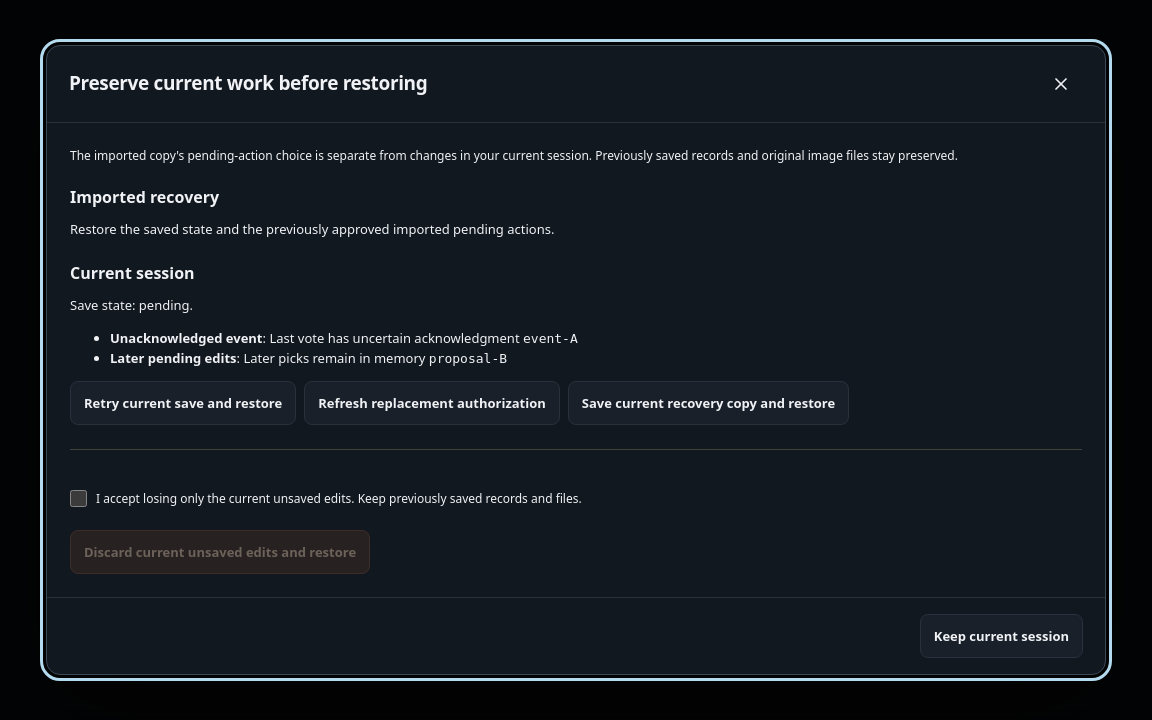
known precommit rejection retains subject and permits reprepare with reset discard approval
The image size is (1152, 720).
Click the checkbox.
click(78, 498)  # box [70, 490, 87, 507]
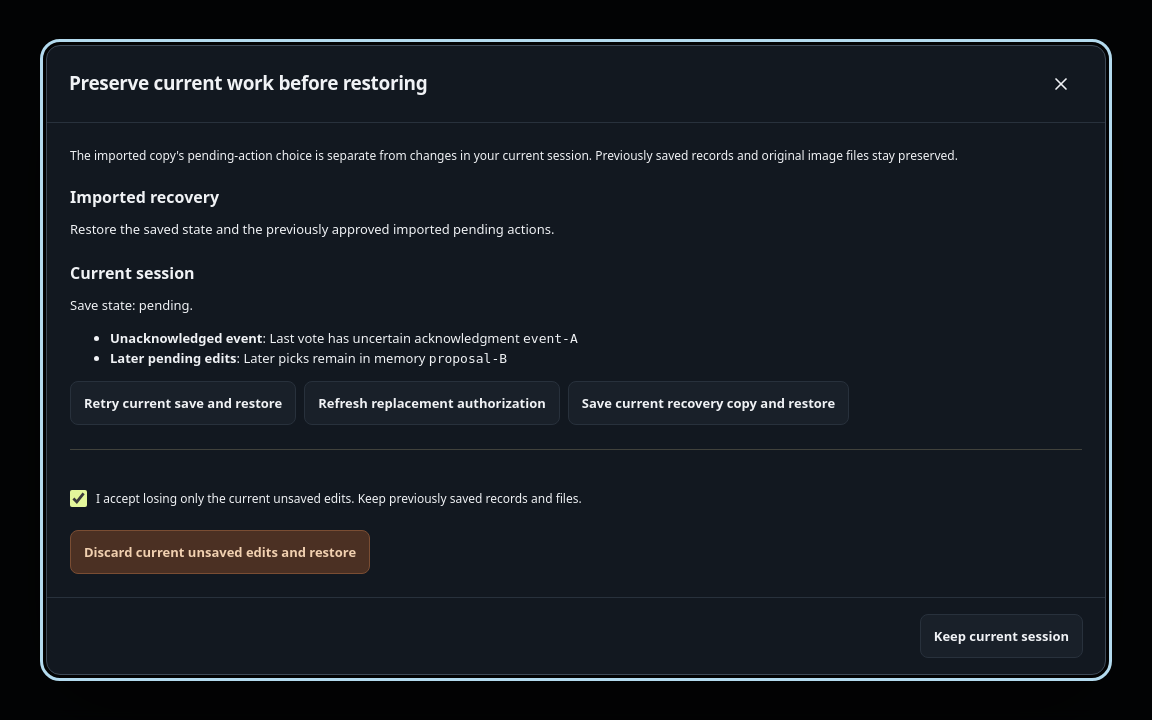
Click the button "Discard current unsaved edits and restore".
click(220, 552)  # box [70, 530, 370, 574]
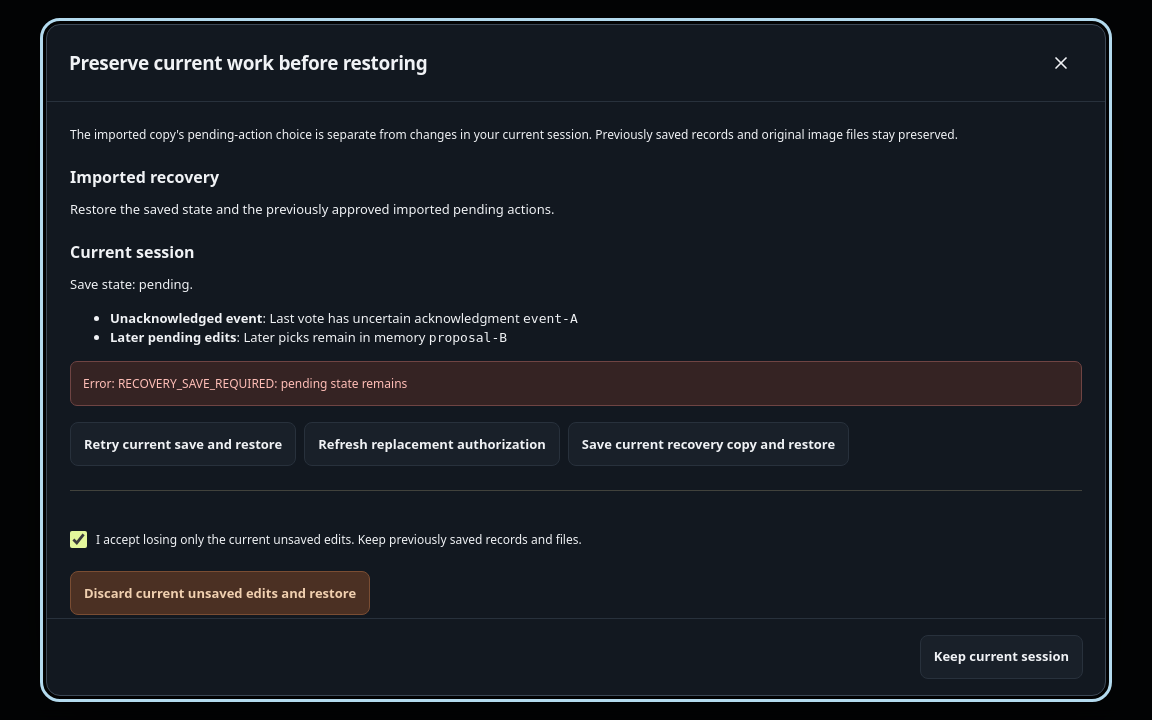
Expected: the text "Error: RECOVERY_SAVE_REQUIRED: pending state remains" is shown, [70, 361, 1082, 406]
Click the button "Refresh replacement authorization".
click(432, 444)  # box [304, 422, 560, 466]
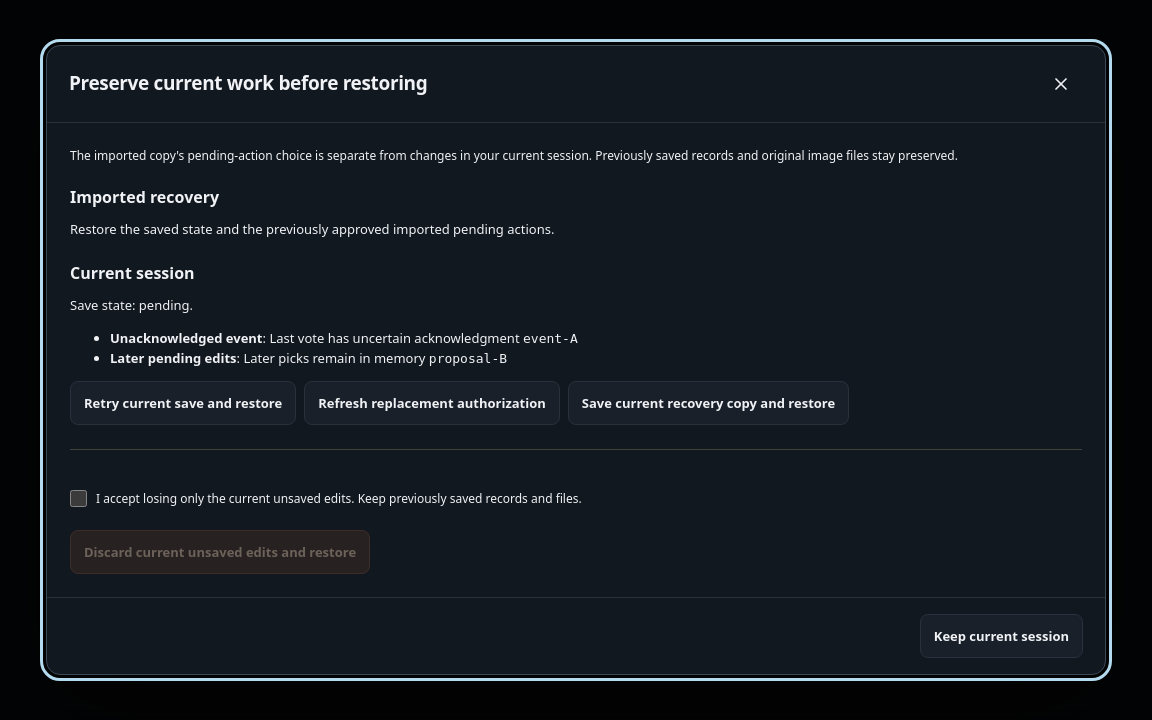
Expected: the checkbox is not checked, [70, 490, 87, 507]
